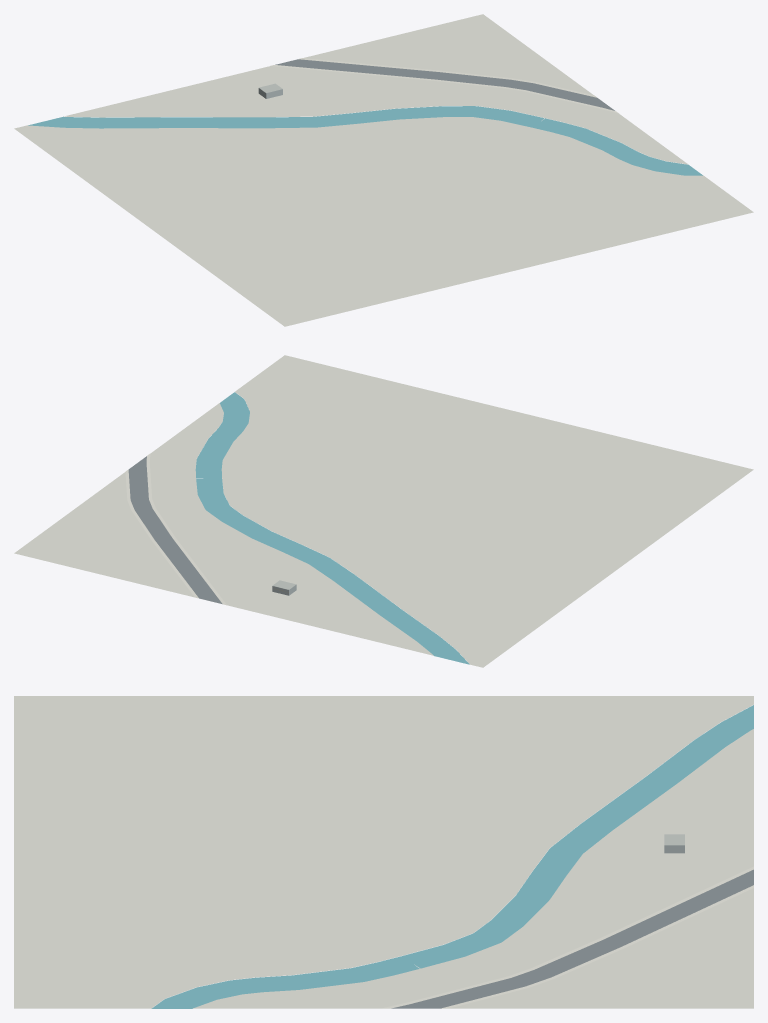
3 views of the same model, one above another, from view 1: azimuth 30°, elevation 25°; view 2: azimuth 150°, elevation 25°; view 3: azimuth 270°, elevation 25° (orthographic). The views are drawn at different scales.
Visible parts, largest first — view 1: city; view 2: city; view 3: city.
Boxes of the visible parts, <box> form: city: <box>14,14,753,326</box>; city: <box>14,355,753,667</box>; city: <box>14,696,753,1008</box>.
Size of the model in its own units: 500 by 6.18 by 500.
